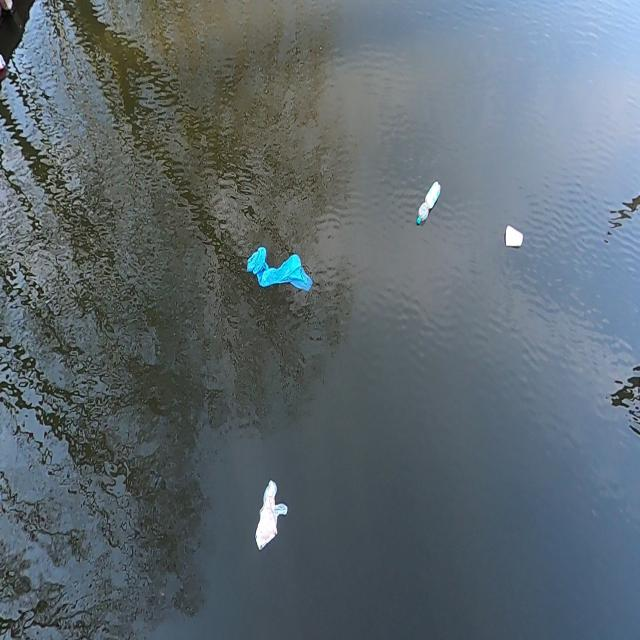Bouteille plastique: (414, 175, 444, 226)
Non plastique: (501, 221, 527, 255)
Sac plastique: (244, 241, 314, 298), (251, 479, 290, 559)
